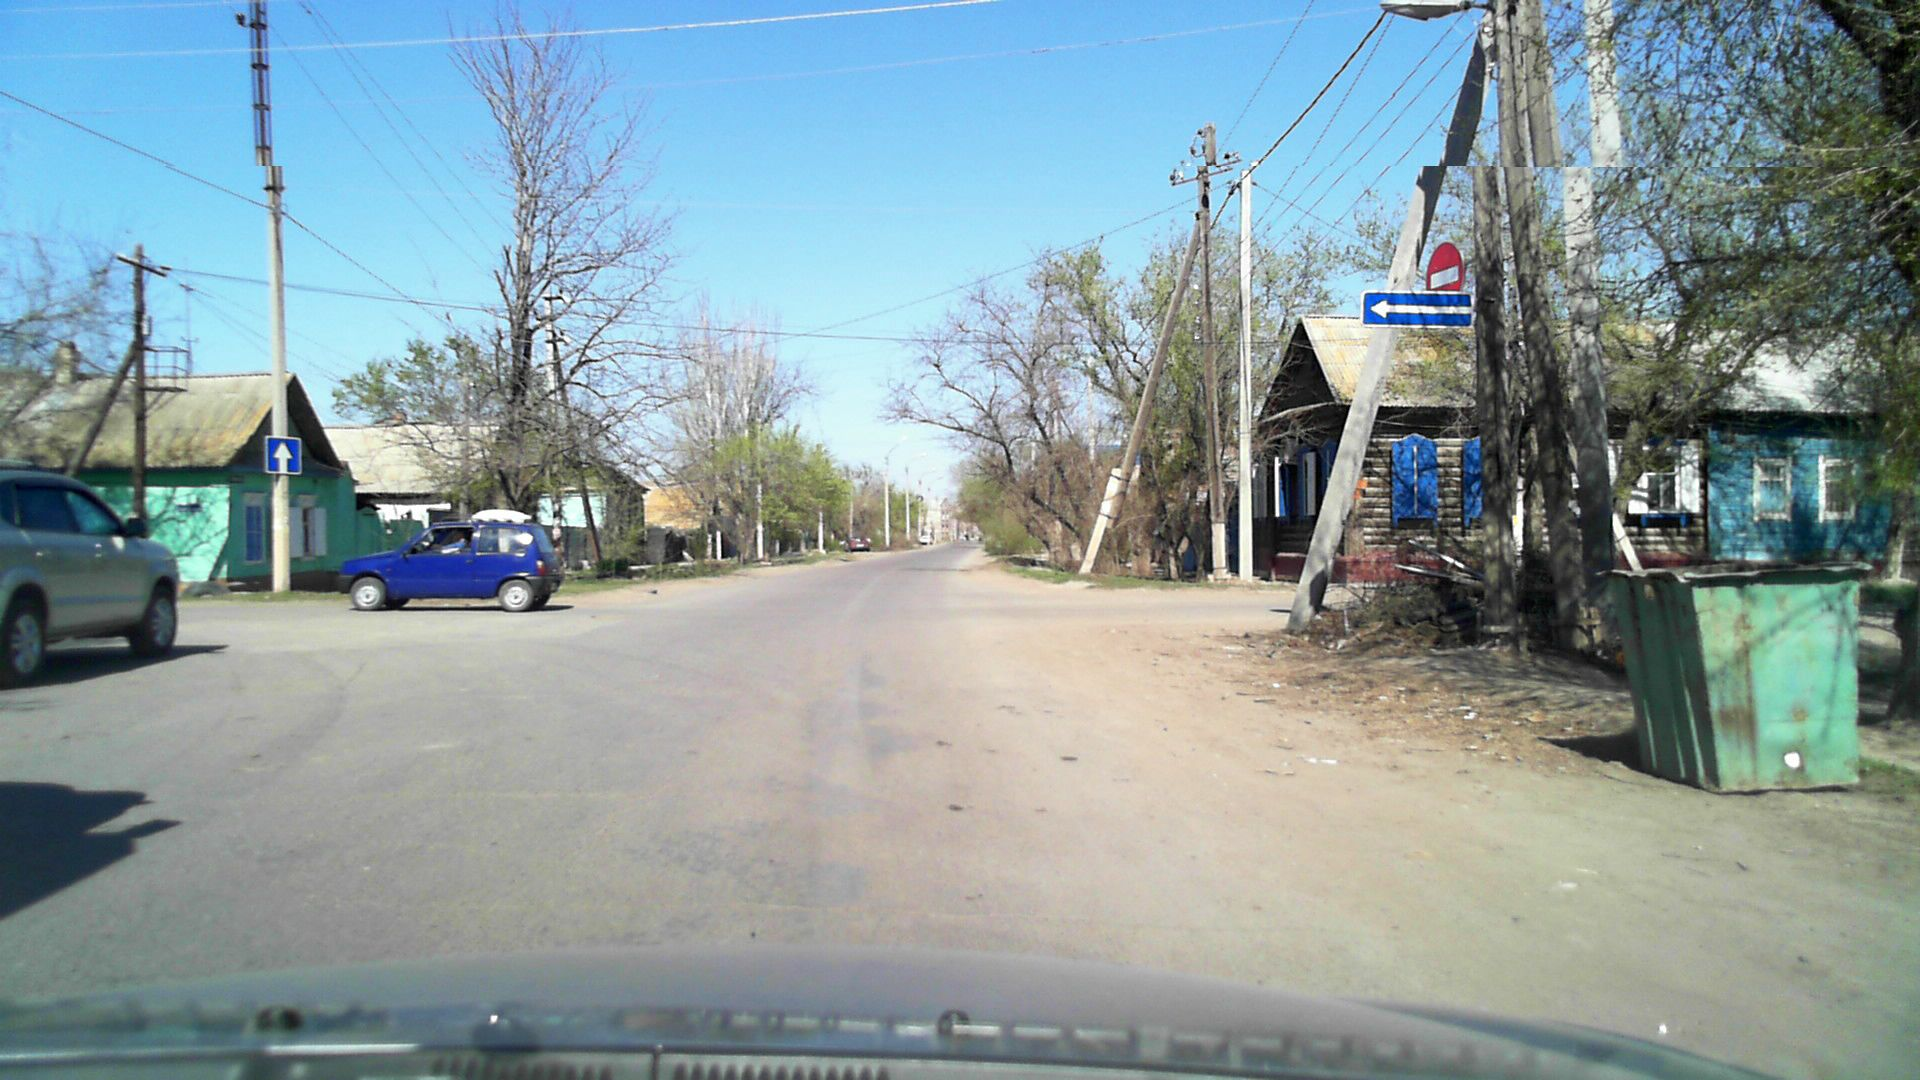One-Way Traffic: (1361, 291, 1474, 327)
